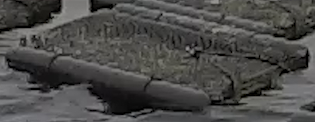bag: (8, 5, 307, 108)
